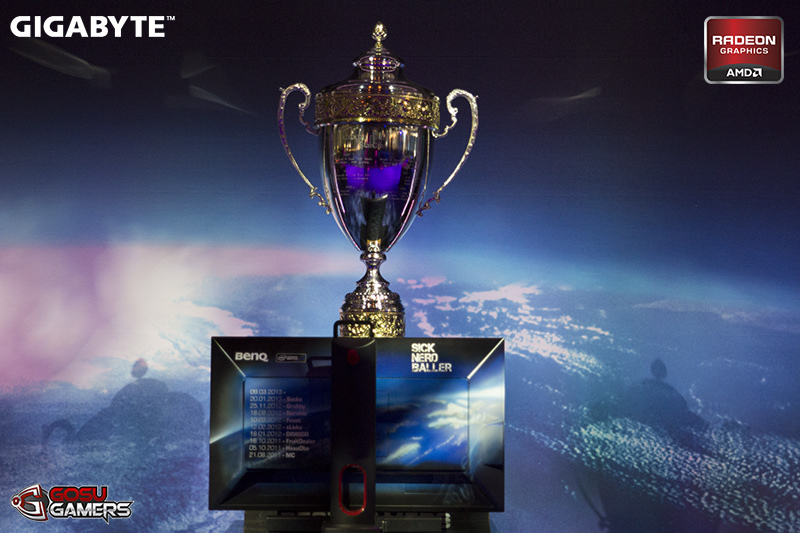trophy: (273, 14, 481, 339)
